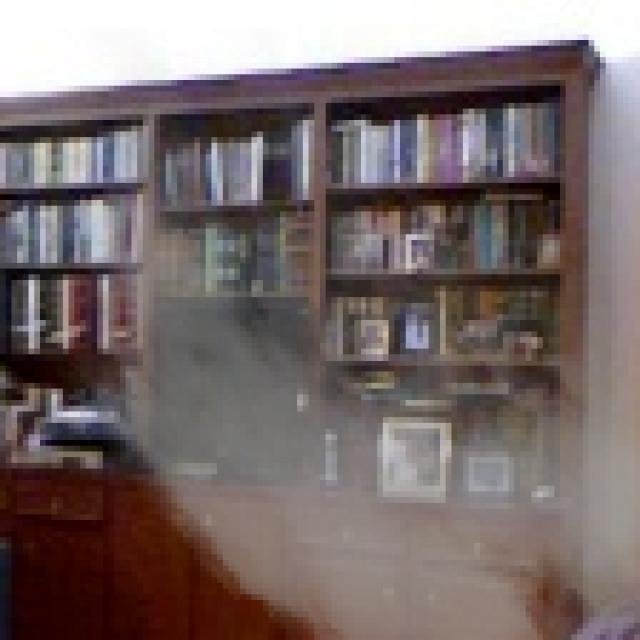smoke: (5, 28, 640, 640)
